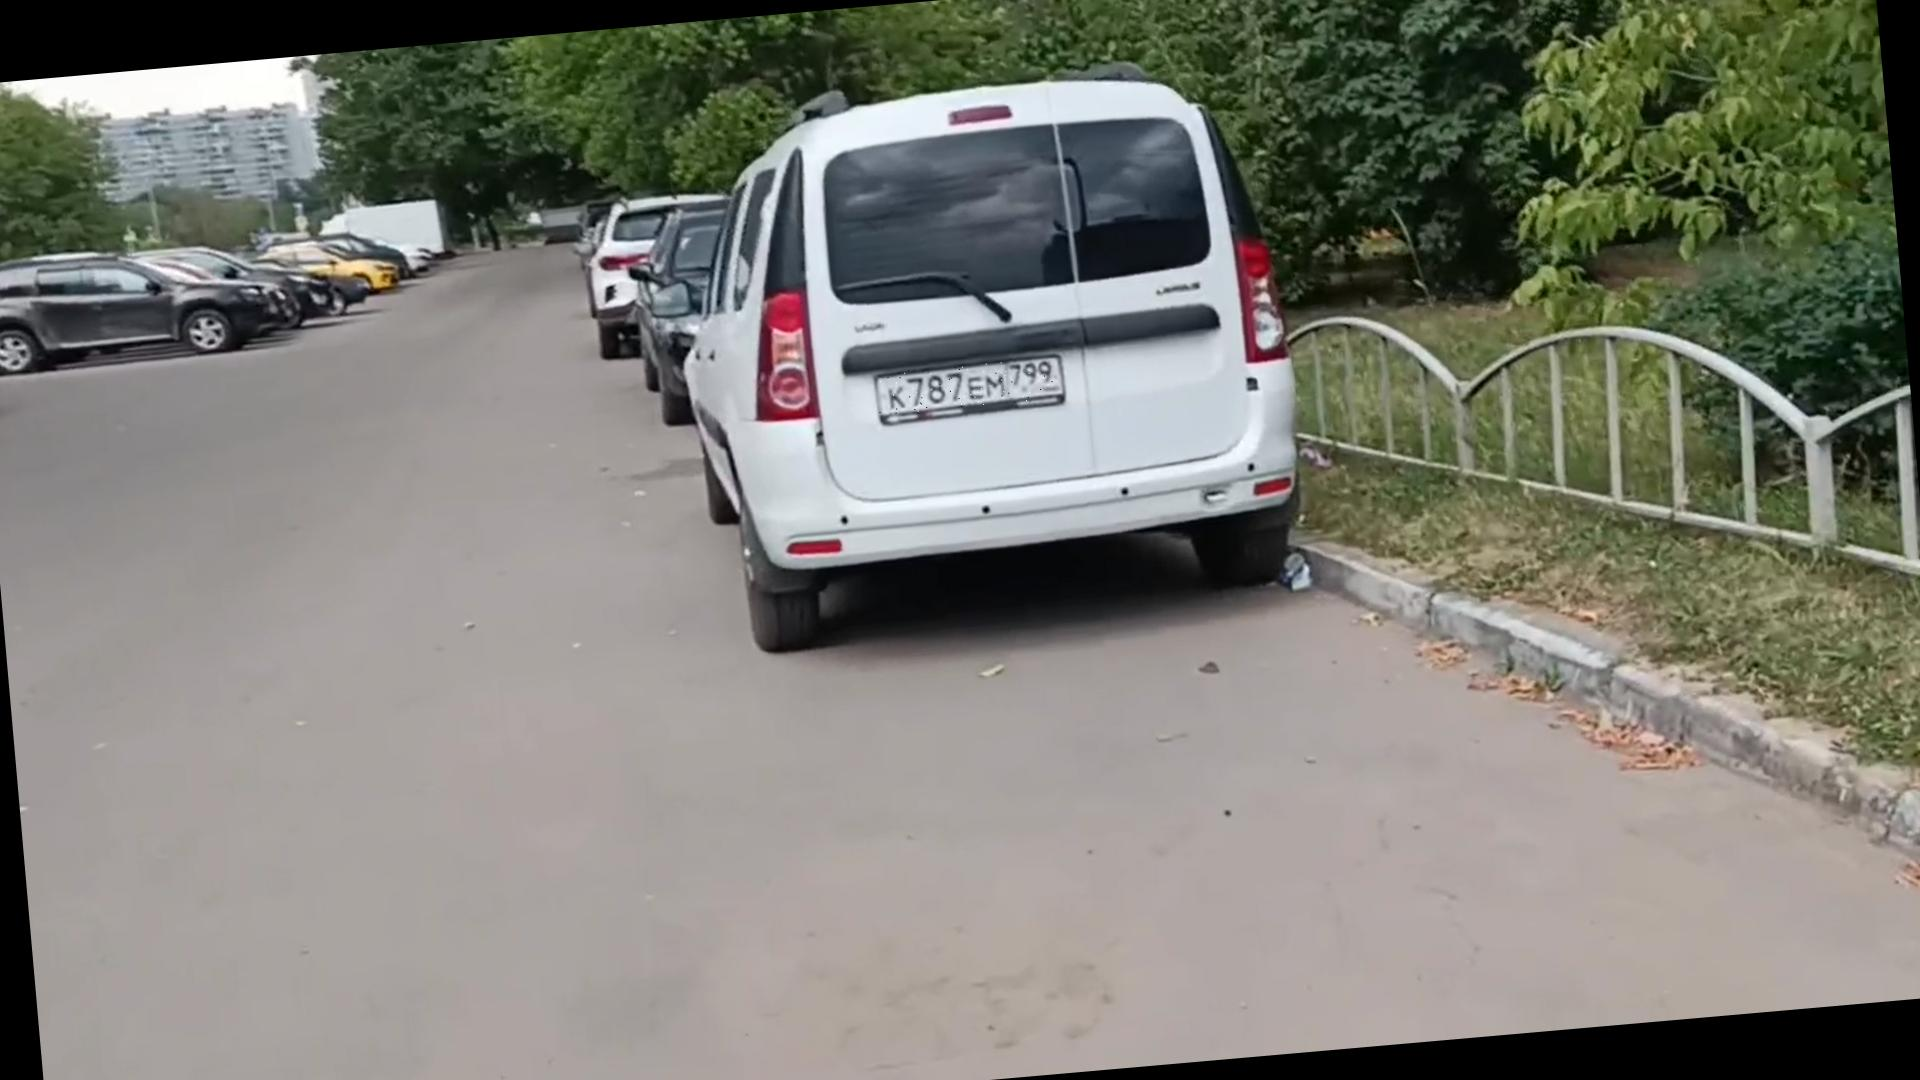plate: (878, 359, 1057, 417)
